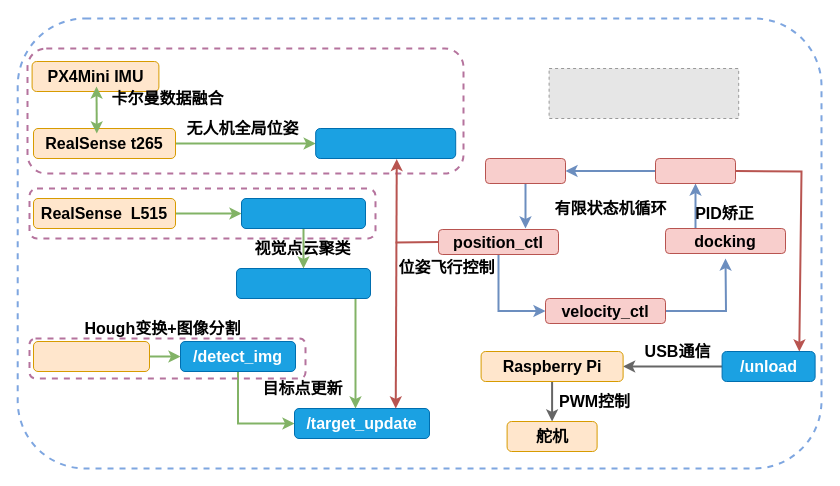
Some shapes in this 840 by 486 pixel diagram are drawn without their labels. Grey dashed boxes stand in for pictures. Each missing label, with the box of its shape:
/block_position: (236, 268, 370, 298)
/image_raw: (240, 198, 366, 228)
/local_position: (315, 128, 456, 158)
landing: (654, 158, 736, 184)
takeoff: (484, 158, 566, 184)
鱼眼相机: (32, 340, 150, 372)
